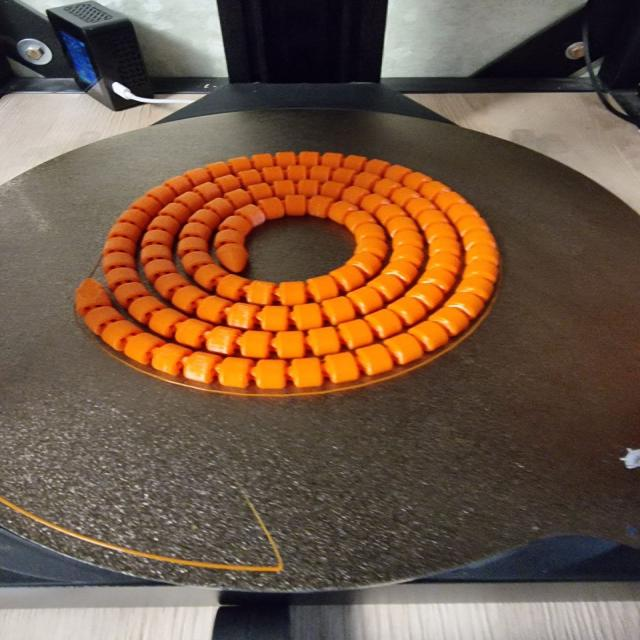Without deffect: (70, 138, 502, 416)
